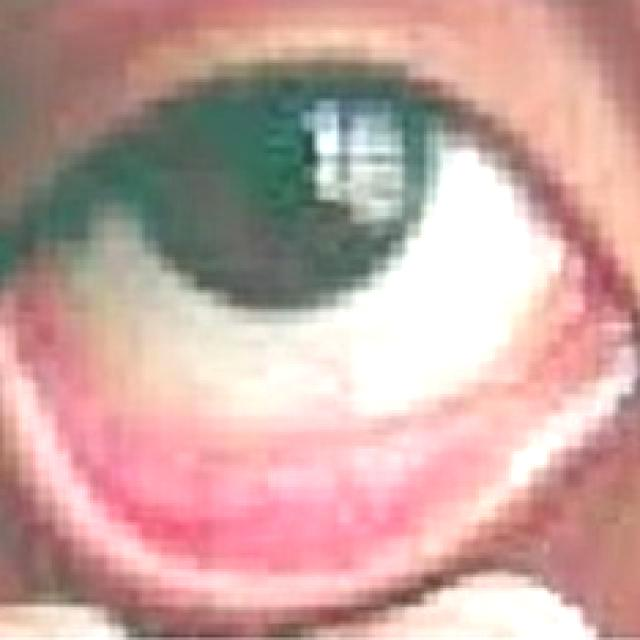conjunctiva_pallor: (34, 289, 614, 563)
